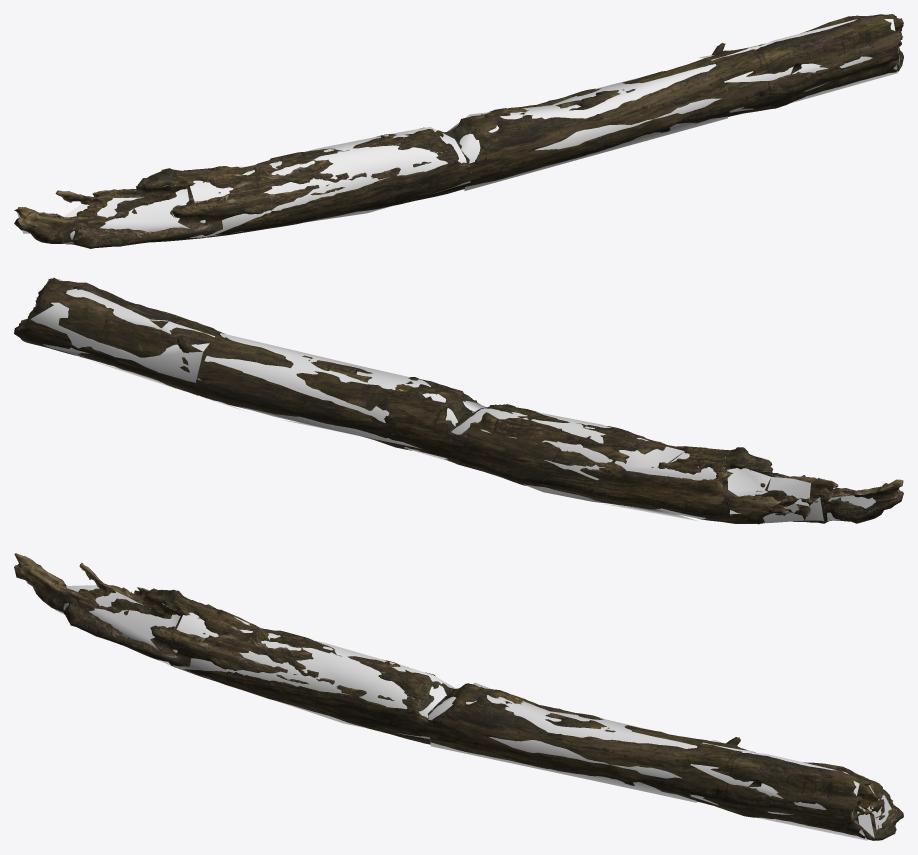
The model's file is ph_dead_tree_trunk.glb.
The picture shows the model from 3 angles, top to bottom: view 1: azimuth 30°, elevation 25°; view 2: azimuth 150°, elevation 25°; view 3: azimuth 330°, elevation 25°; orthographic projection.
Visible parts, largest first — view 1: ph_dead_tree_trunk, ph_dead_tree_trunk_col; view 2: ph_dead_tree_trunk, ph_dead_tree_trunk_col; view 3: ph_dead_tree_trunk, ph_dead_tree_trunk_col.
Boxes of the visible parts, x1,y1,x2,y2 form: ph_dead_tree_trunk: (14, 14, 903, 248); ph_dead_tree_trunk_col: (17, 19, 900, 243); ph_dead_tree_trunk: (14, 277, 903, 524); ph_dead_tree_trunk_col: (29, 279, 875, 523); ph_dead_tree_trunk: (14, 553, 903, 840); ph_dead_tree_trunk_col: (27, 582, 891, 840).
Size of the model in its own units: 3.05 by 0.2906 by 0.2789.
1 material, 1 textured.
